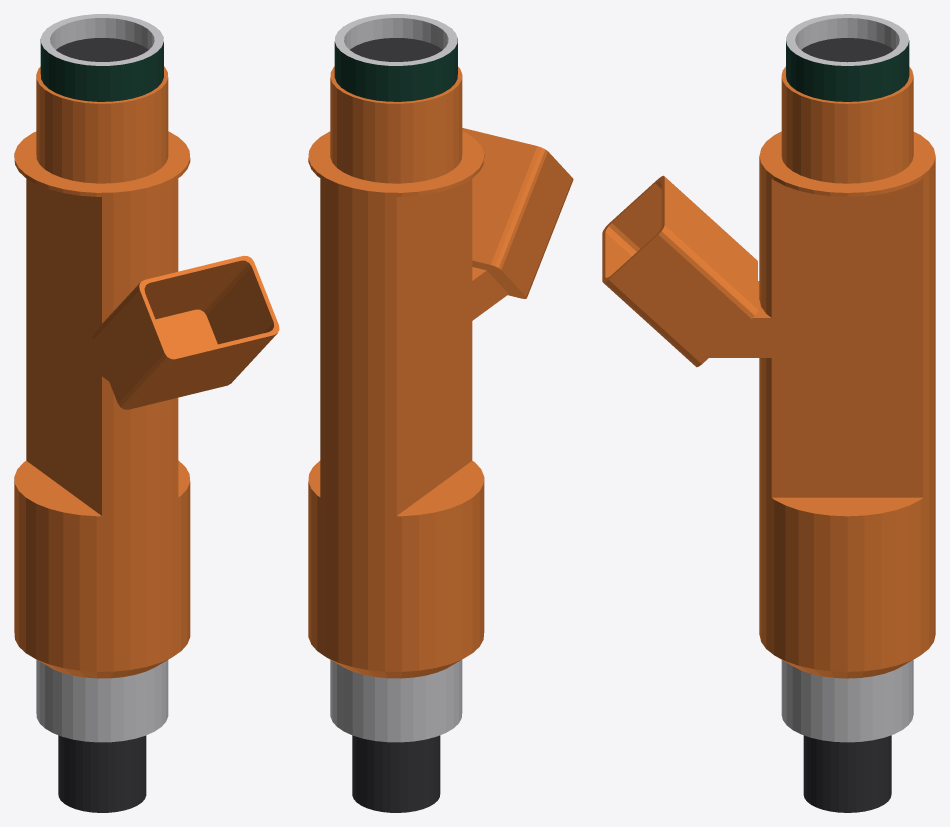
File: injectors.glb
3 views of the same model, side by side, from view 1: azimuth 30°, elevation 25°; view 2: azimuth 150°, elevation 25°; view 3: azimuth 270°, elevation 25° (orthographic).
Parts seen in each view (by area): view 1: Fuel Injectors_Orange_0, Fuel Injectors_Metalic_0, Fuel Injectors_Blacks_0, Fuel Injectors_Green_0; view 2: Fuel Injectors_Orange_0, Fuel Injectors_Metalic_0, Fuel Injectors_Blacks_0, Fuel Injectors_Green_0; view 3: Fuel Injectors_Orange_0, Fuel Injectors_Metalic_0, Fuel Injectors_Blacks_0, Fuel Injectors_Green_0.
Boxes of the visible parts, box(x1,y1,x2,y2) form: Fuel Injectors_Orange_0: box(14, 66, 279, 678); Fuel Injectors_Metalic_0: box(36, 14, 168, 742); Fuel Injectors_Blacks_0: box(56, 38, 148, 812); Fuel Injectors_Green_0: box(40, 39, 163, 101); Fuel Injectors_Orange_0: box(308, 66, 573, 678); Fuel Injectors_Metalic_0: box(330, 14, 462, 742); Fuel Injectors_Blacks_0: box(350, 38, 442, 812); Fuel Injectors_Green_0: box(334, 38, 457, 101); Fuel Injectors_Orange_0: box(602, 66, 935, 678); Fuel Injectors_Metalic_0: box(781, 14, 913, 742); Fuel Injectors_Blacks_0: box(801, 38, 893, 812); Fuel Injectors_Green_0: box(786, 40, 909, 101).
Size of the model in its own units: 2 by 9.45 by 3.78.
